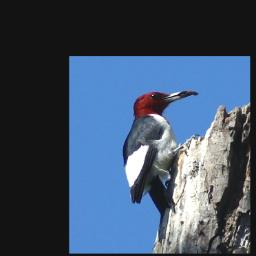Woodpecker: (122, 89, 198, 244)
